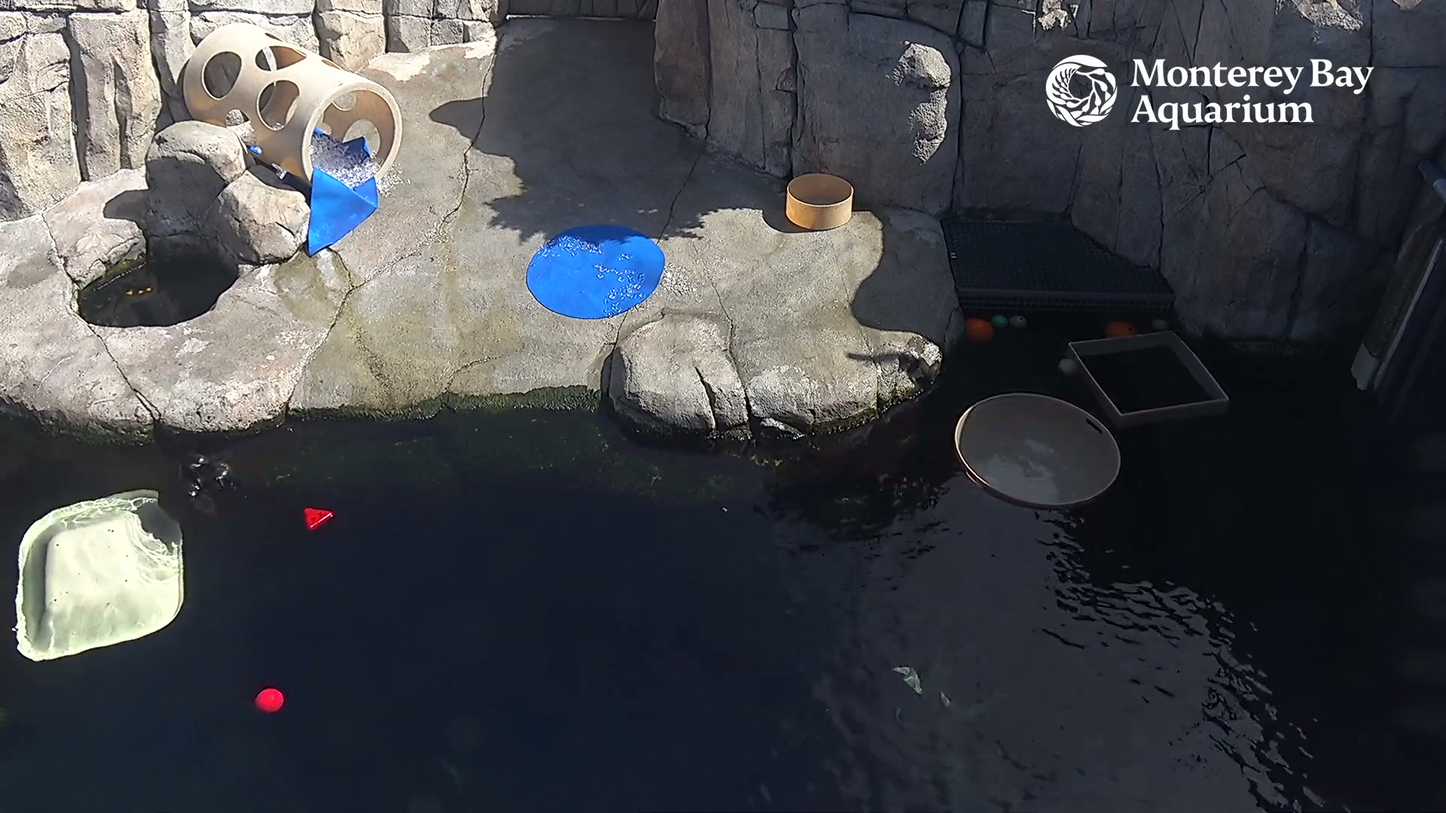Southern Sea Otter: (161, 426, 273, 535)
